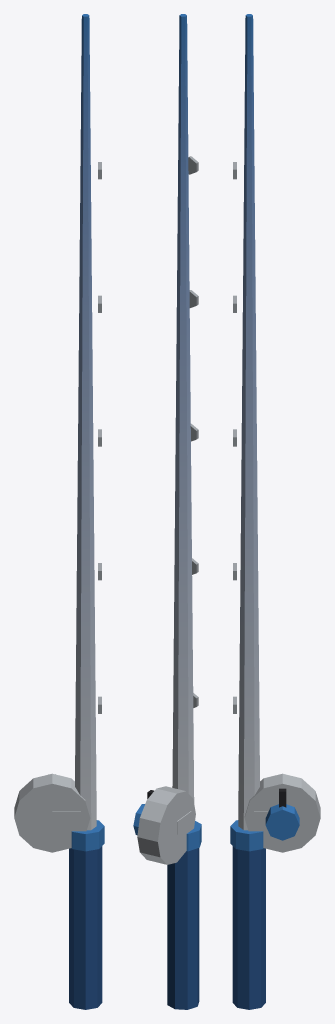
Rendered from rod_glass.glb.
3 renders of one model, left to right at view 1: azimuth 90°, elevation 25°; view 2: azimuth 150°, elevation 25°; view 3: azimuth 270°, elevation 25°, orthographic.
Visible parts, largest first — view 1: rod_glass; view 2: rod_glass; view 3: rod_glass.
Part boxes in pixels (x1,y1,x2,y2): rod_glass: [14, 14, 104, 1009]; rod_glass: [133, 14, 201, 1009]; rod_glass: [230, 14, 320, 1009].
Bounding box in the file's own units: 0.1 × 2.29 × 0.19.
